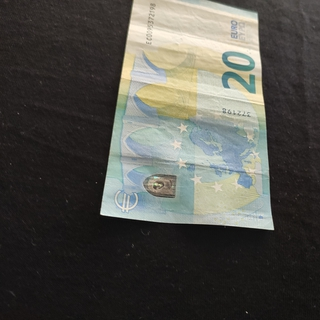20EUROBack: (100, 0, 274, 230)
